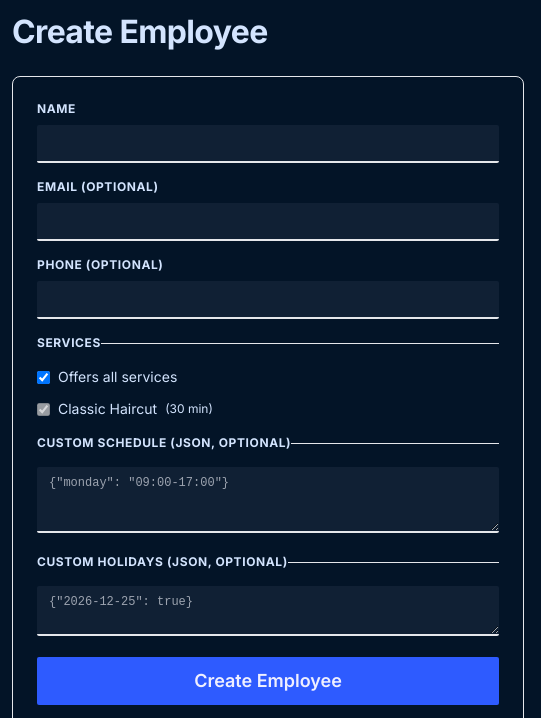
Test case: CreateEmployee (crear) › JSON inválido en custom schedule → error y no hace POST
The width and height of the screenshot is (541, 718).
Type "Employee Demo" into the field labelled "Name" at (268,144), box [37,125,499,163]
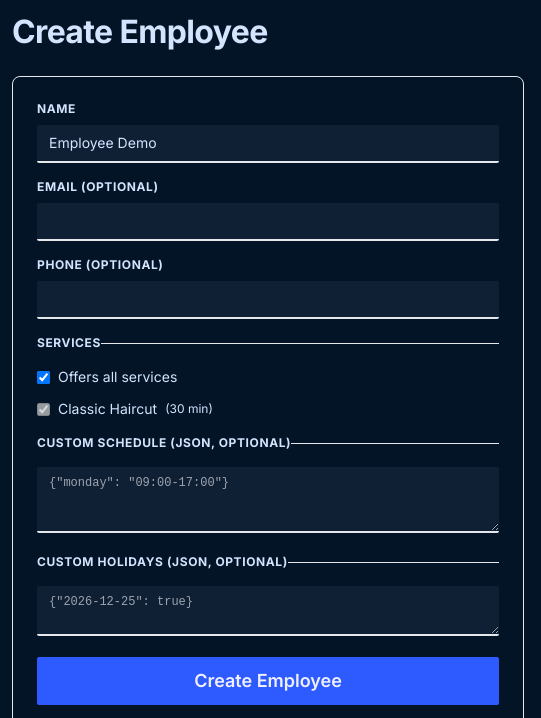
Type "not-json" into the text box with placeholder "{\"monday\": \"09:00-17:00\"}" at (268,500), box [37,467,499,533]
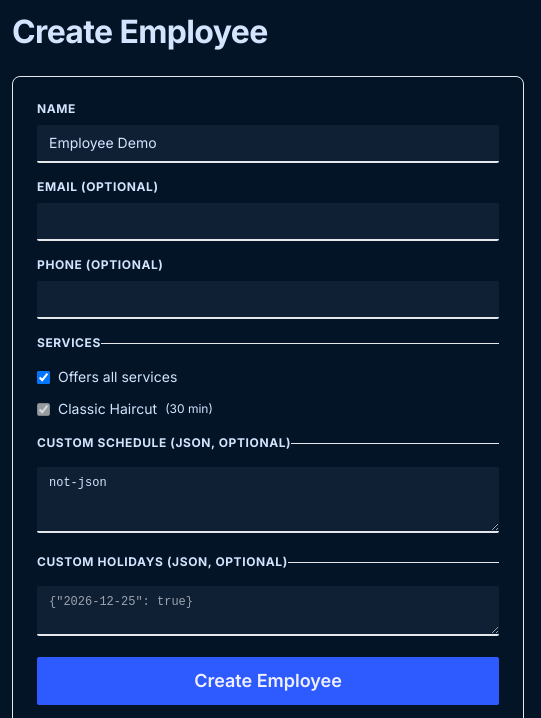
Click the button "Create Employee" at (268,681), box [37,657,499,705]
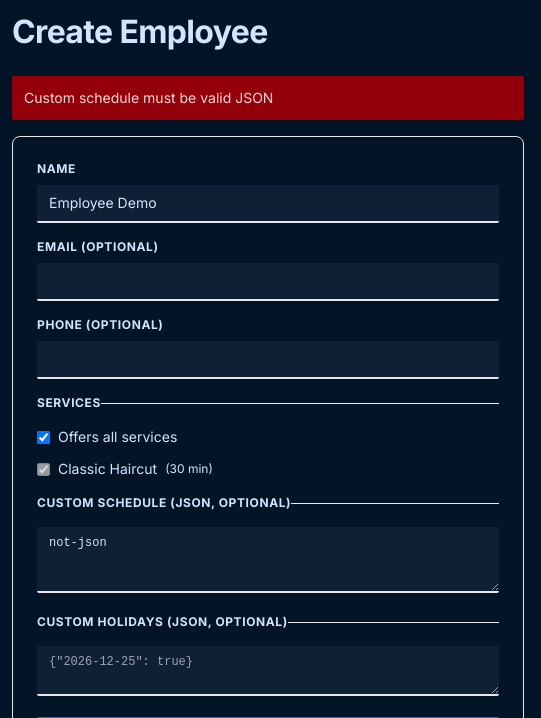
Now the text "Custom schedule must be valid JSON" is shown, box [12,76,524,120]
